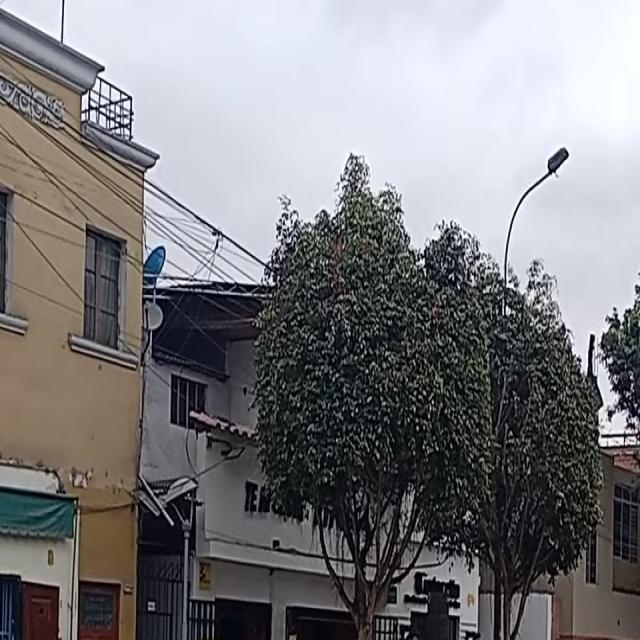bicycle: (422, 578, 460, 640)
